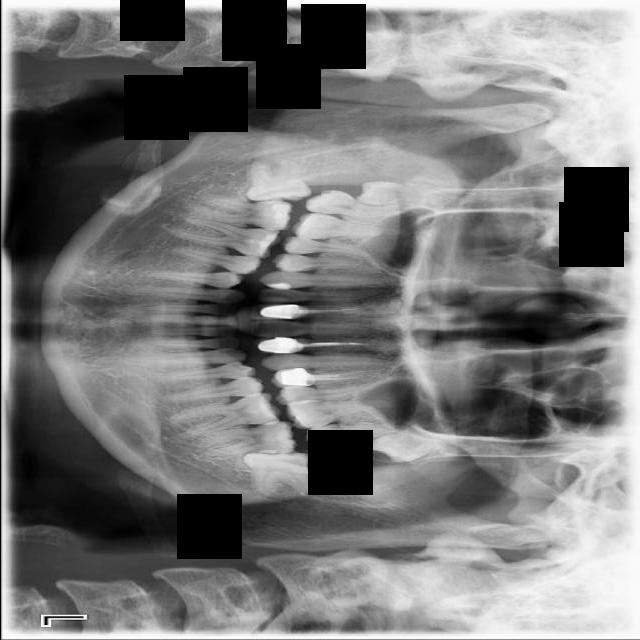3M ESPE Implant: (353, 178, 459, 213)
52: (231, 214, 286, 270), (234, 384, 285, 437), (251, 416, 299, 460), (252, 196, 295, 234), (283, 398, 332, 431), (304, 423, 352, 455), (258, 268, 311, 293), (267, 366, 317, 392), (254, 336, 314, 355), (251, 303, 307, 320)
73: (310, 361, 386, 386), (302, 336, 388, 352), (302, 301, 375, 318), (16, 612, 26, 626)
BioHorizons Implant: (305, 417, 415, 455)
BioLife Implant: (365, 422, 462, 469)
Biomet 3i Implant: (242, 448, 318, 497)
Blue Sky Bio Implant: (193, 420, 297, 458)
Caries: (303, 185, 420, 231)
Implant: (185, 193, 294, 232), (196, 193, 289, 211), (195, 200, 235, 214)
Keystone Dental Implant: (244, 157, 311, 205)
